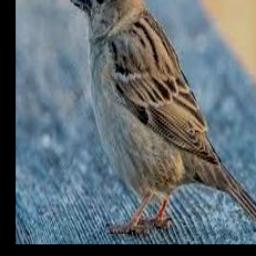Sparrow: (70, 0, 256, 234)
